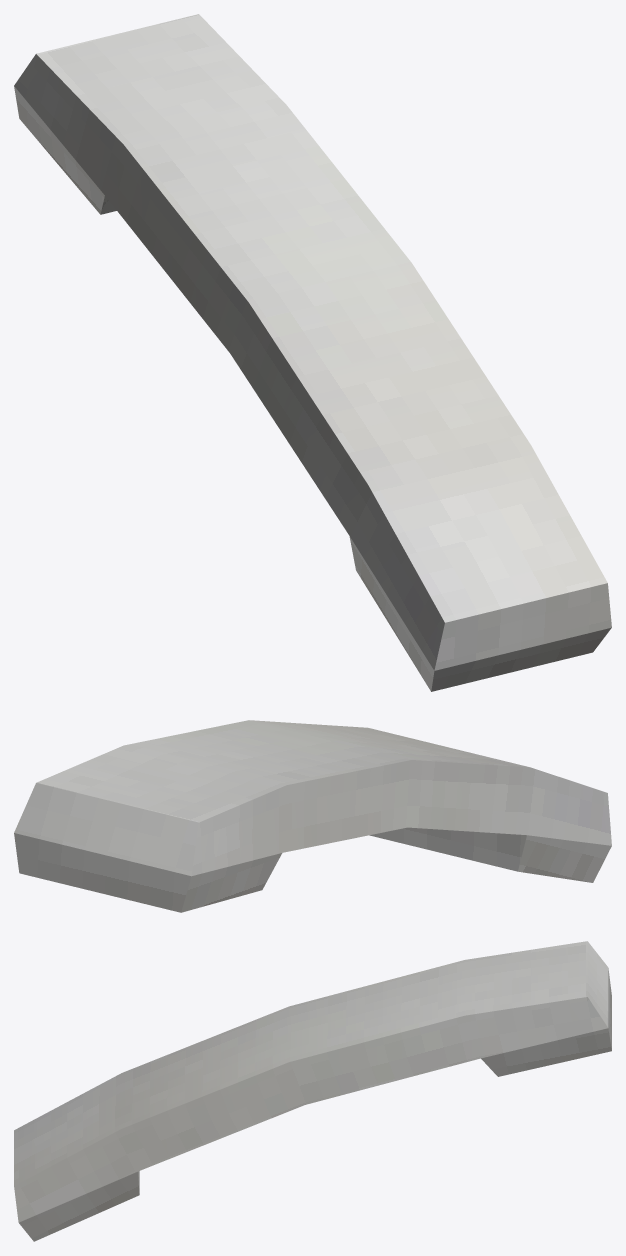
File: Phone001.glb
The picture shows the model from 3 angles, top to bottom: view 1: azimuth 30°, elevation 25°; view 2: azimuth 150°, elevation 25°; view 3: azimuth 270°, elevation 25°; orthographic projection. The views are drawn at different scales.
Visible parts, largest first — view 1: phone.001; view 2: phone.001; view 3: phone.001.
Part boxes in pixels (x1,y1,x2,y2): phone.001: (14,14,611,691); phone.001: (14,720,611,912); phone.001: (14,941,611,1241).
Bounding box in the file's own units: 0.0499 × 0.0939 × 0.2077.
1 material, 1 textured.
